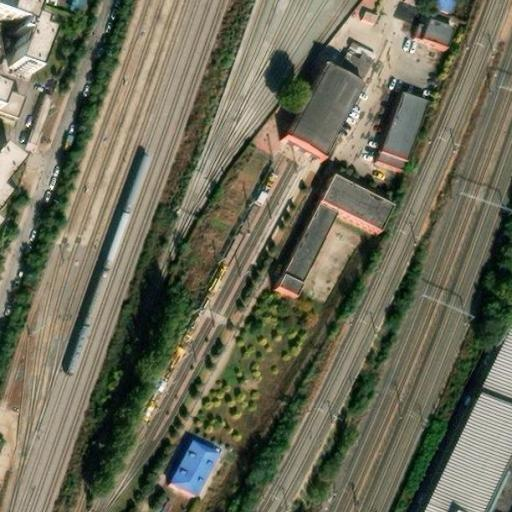building: (271, 184, 387, 305), (428, 402, 512, 512), (283, 72, 360, 163), (375, 94, 426, 166), (476, 325, 512, 418), (160, 448, 216, 507), (12, 24, 56, 90), (20, 87, 53, 147), (333, 35, 377, 78), (0, 138, 24, 200), (418, 20, 447, 49), (356, 3, 379, 25)
